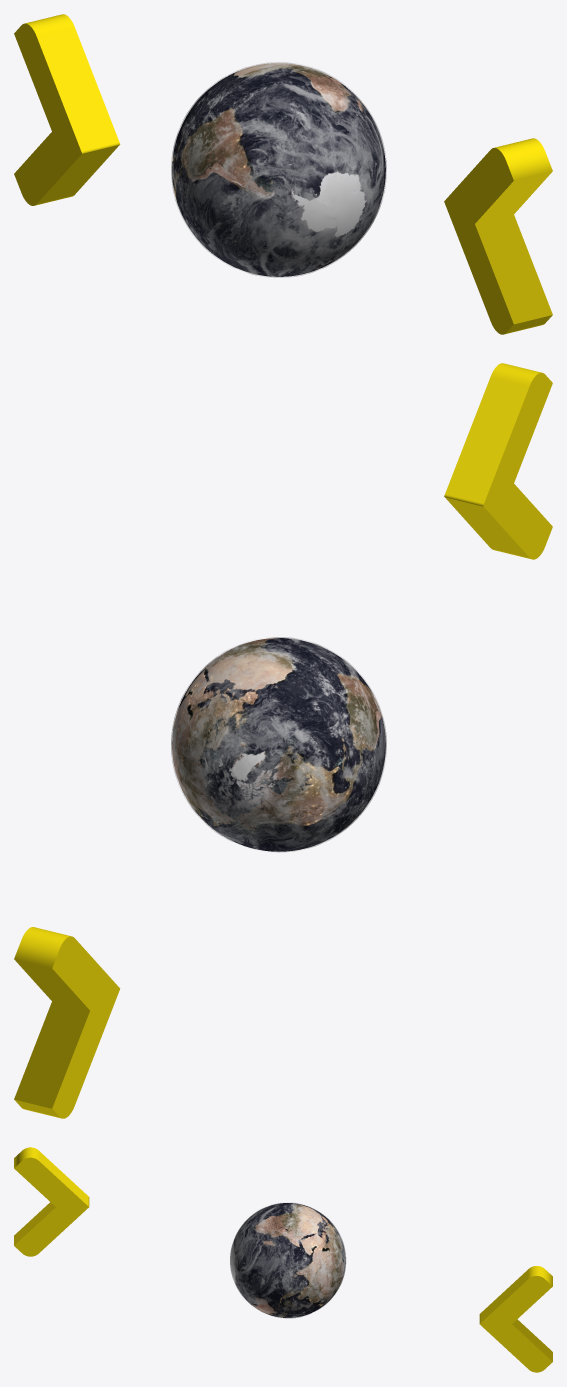
3 views of the same model, one above another, from view 1: azimuth 30°, elevation 25°; view 2: azimuth 150°, elevation 25°; view 3: azimuth 270°, elevation 25° (orthographic). The views are drawn at different scales.
Visible parts, largest first — view 1: Object_3, Object_2, Arrow.003, Arrow.004; view 2: Object_3, Object_2, Arrow.003, Arrow.004; view 3: Object_3, Object_2, Arrow.003, Arrow.004.
Boxes of the visible parts, box(x1,y1,x2,y2) form: Object_3: box(172, 63, 385, 276); Object_2: box(171, 62, 386, 277); Arrow.003: box(444, 138, 552, 334); Arrow.004: box(14, 14, 120, 205); Object_3: box(172, 638, 385, 851); Object_2: box(171, 637, 386, 852); Arrow.003: box(444, 363, 552, 559); Arrow.004: box(14, 927, 120, 1118); Object_3: box(231, 1203, 345, 1317); Object_2: box(230, 1202, 346, 1318); Arrow.003: box(14, 1147, 89, 1256); Arrow.004: box(479, 1266, 552, 1372).
Size of the model in its own units: 7.38 by 15.04 by 34.16.
Materials: 3 (2 with a texture image).
